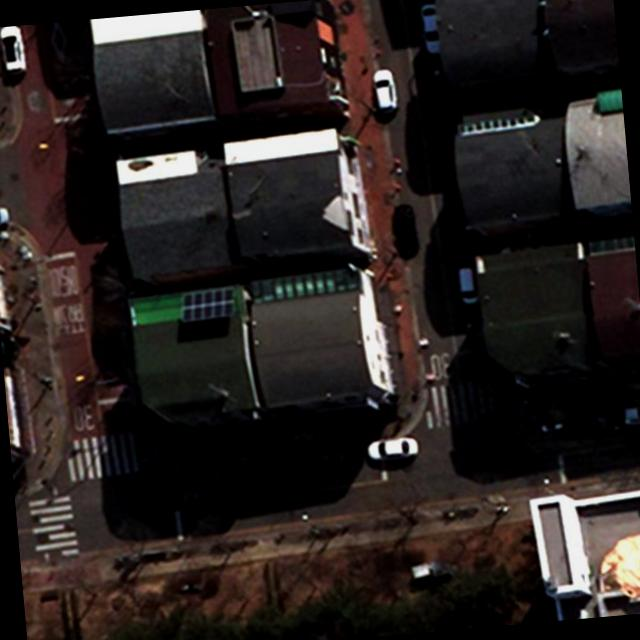solar: (178, 288, 238, 324)
